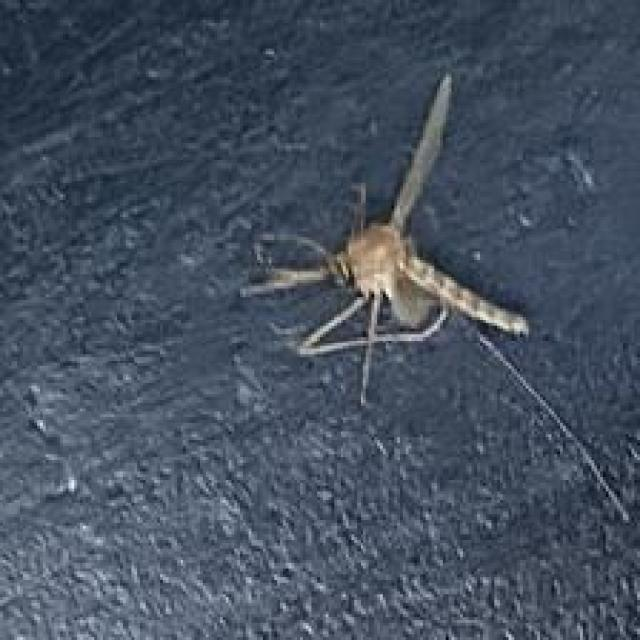Culex: (237, 70, 632, 524)
